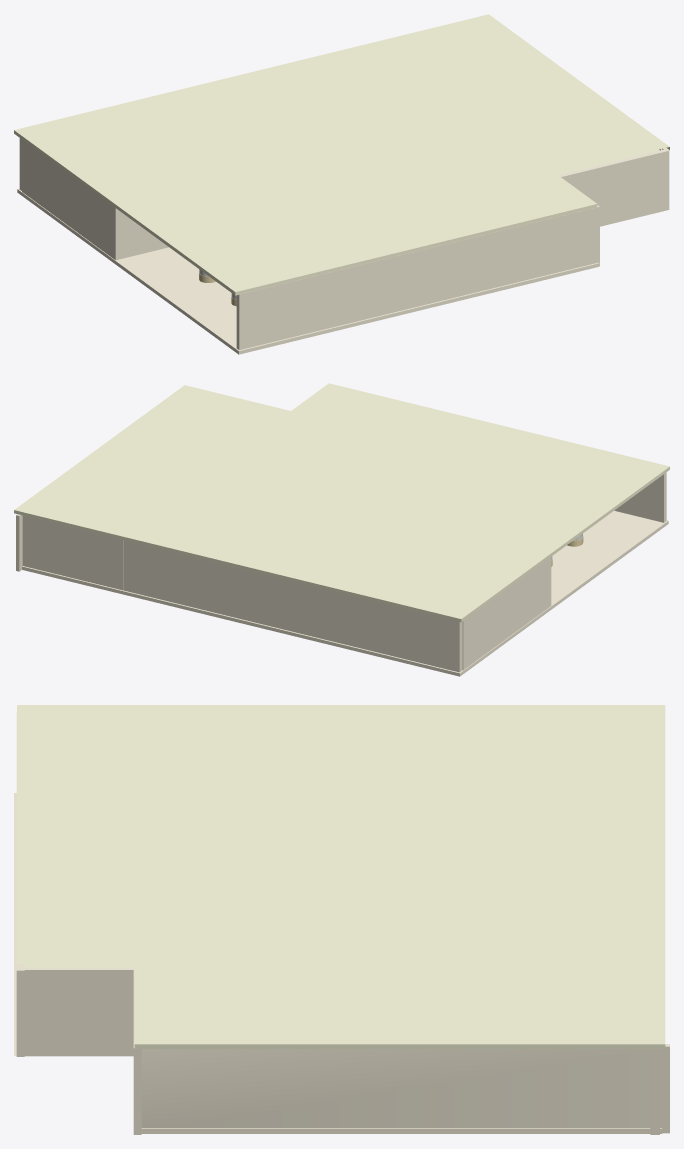
Rendered from CHANGJING(1).fbx.
3 views of the same model, one above another, from view 1: azimuth 30°, elevation 25°; view 2: azimuth 150°, elevation 25°; view 3: azimuth 270°, elevation 25° (orthographic). The views are drawn at different scales.
Visible parts, largest first — view 1: zhanshigui12_jieshao2_zhong; view 2: zhanshigui12_jieshao2_zhong; view 3: zhanshigui12_jieshao2_zhong.
Part boxes in pixels (x1,y1,x2,y2): zhanshigui12_jieshao2_zhong: (14, 14, 669, 354); zhanshigui12_jieshao2_zhong: (14, 383, 669, 676); zhanshigui12_jieshao2_zhong: (14, 705, 669, 1134).
Size of the model in its own units: 850 by 107 by 694.
